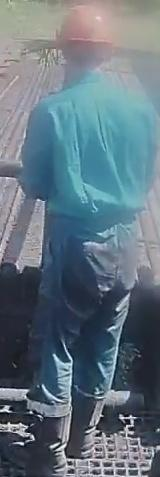helmet: (54, 4, 118, 46)
vest: (15, 78, 160, 234)
